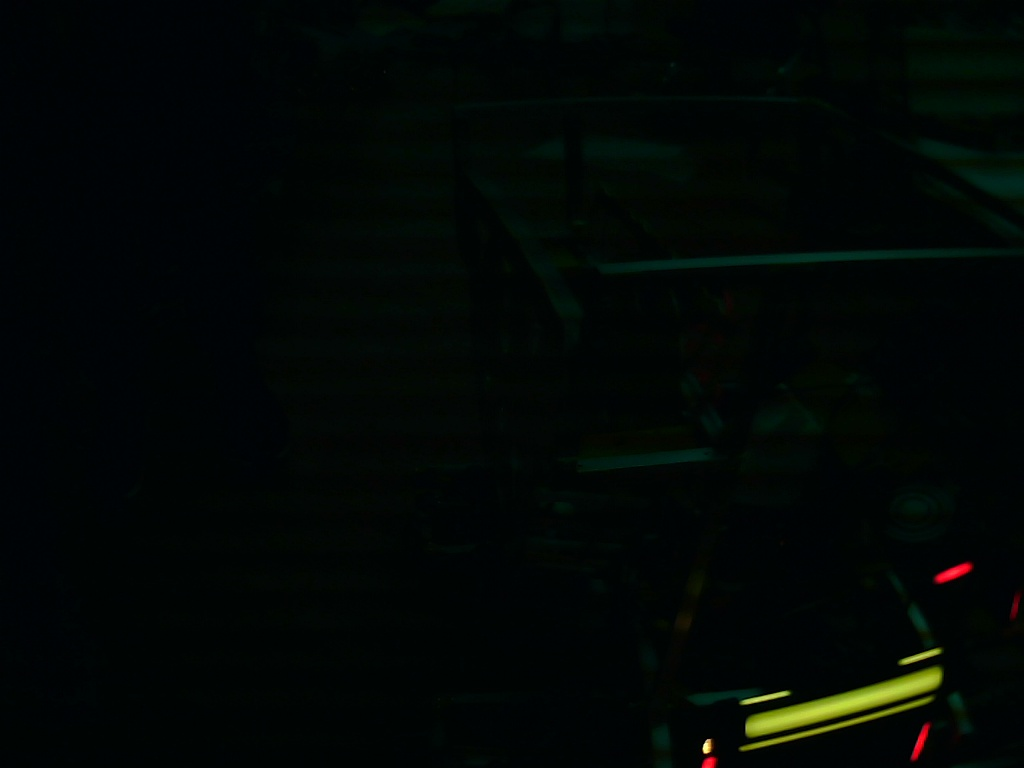lamp: (916, 720, 929, 763)
